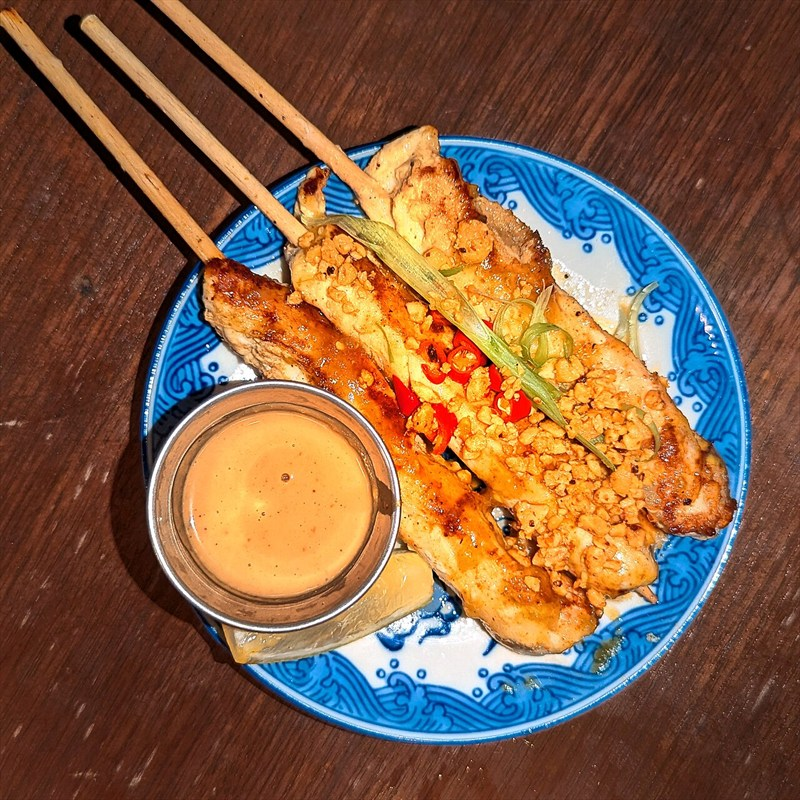Sate Ayam: (162, 139, 718, 715)
